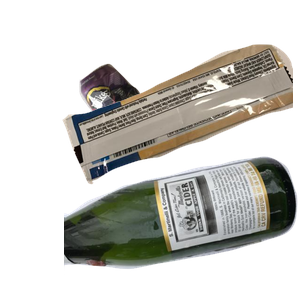glass: (64, 154, 300, 300)
metal: (77, 61, 222, 191)
plastic: (63, 170, 278, 300)
trash: (60, 42, 300, 219)
